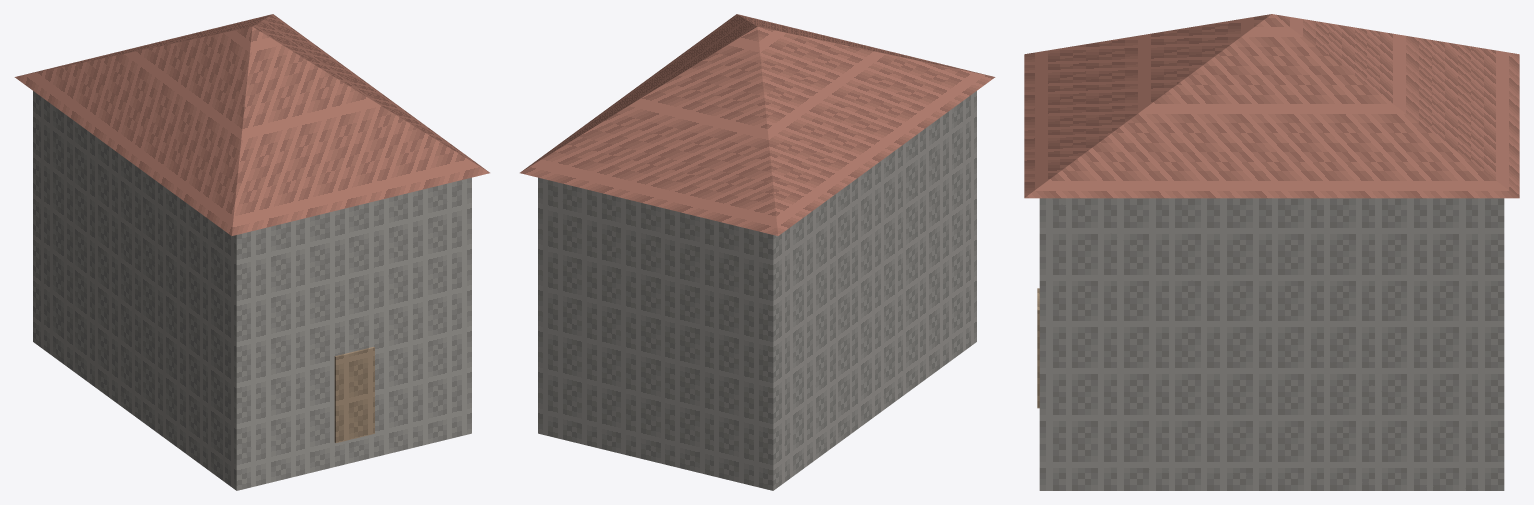
The model's file is row_end.glb.
3 views of the same model, side by side, from view 1: azimuth 30°, elevation 25°; view 2: azimuth 150°, elevation 25°; view 3: azimuth 270°, elevation 25° (orthographic). The views are drawn at different scales.
Size of the model in its own units: 6.6 by 8.8 by 9.6.
3 materials, 3 textured.
